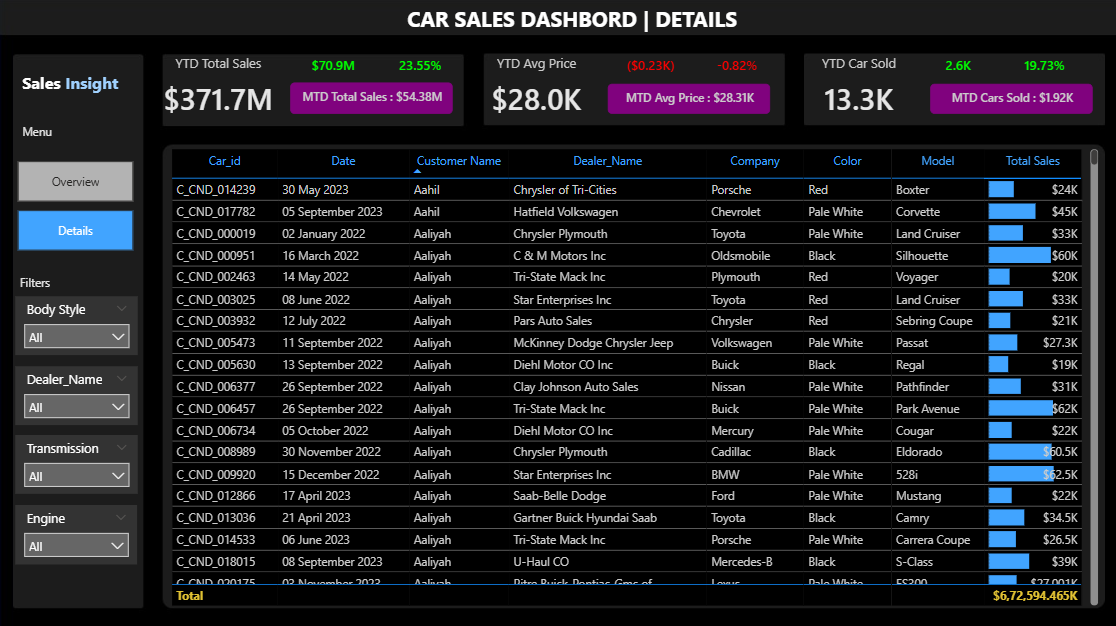

The page's visual inventory and layout, read from the dashboard file:
{"tool":"powerbi","page":{"name":"Details","canvas":[1280,720],"ordinal":1},"visuals":[{"type":"card","title":"YTD Total Sales","fields":{"Values":["car_data.YTD Total Sales"]},"box":[168.6,61.4,164.3,82.9],"z":0},{"type":"card","fields":{"Values":["car_data.Sales Difference"]},"box":[332.9,62.9,98.6,28.6],"z":1000},{"type":"card","fields":{"Values":["car_data.YoY Sales Growth"]},"box":[431.4,62.9,100,28.6],"z":2000},{"type":"card","fields":{"Values":["car_data.MTD KPI"]},"box":[332.9,94.3,185.7,35.7],"z":3000},{"type":"card","title":"YTD Avg Price","fields":{"Values":["car_data.YTD Avg Price"]},"box":[532.9,61.4,162.9,82.9],"z":4000},{"type":"card","fields":{"Values":["car_data.Avg Price Diff"]},"box":[695.7,62.9,98.6,28.6],"z":5000},{"type":"card","fields":{"Values":["car_data.YoY Avg Price Growth"]},"box":[794.3,62.9,98.6,28.6],"z":6000},{"type":"card","fields":{"Values":["car_data.MTD Avg Price KPI"]},"box":[695.7,95.7,185.7,34.3],"z":7000},{"type":"card","title":"YTD Car Sold","fields":{"Values":["car_data.YTD Car Soldo"]},"box":[901.4,61.4,162.9,82.9],"z":8000},{"type":"card","fields":{"Values":["car_data.Cars Sold Diff"]},"box":[1047.1,62.9,98.6,28.6],"z":9000},{"type":"card","fields":{"Values":["car_data.YoY Car Sold Growth"]},"box":[1145.7,62.9,98.6,28.6],"z":10000},{"type":"card","fields":{"Values":["car_data.MTD Cars Sold KPI"]},"box":[1064.3,95.7,185.7,34.3],"z":11000},{"type":"textbox","box":[461.4,0,420,42.9],"z":12000},{"type":"slicer","fields":{"Values":["car_data.Body Style"]},"box":[18.8,338.8,140,67.5],"z":13000},{"type":"slicer","fields":{"Values":["car_data.Dealer_Name"]},"box":[18.7,418.7,140,67.3],"z":14000},{"type":"slicer","fields":{"Values":["car_data.Transmission"]},"box":[18.7,497.3,140,67.3],"z":15000},{"type":"slicer","fields":{"Values":["car_data.Engine"]},"box":[19.2,577.7,139.2,67.7],"z":16000},{"type":"textbox","box":[18.6,308.6,70,30],"z":17000},{"type":"tableEx","fields":{"Values":["car_data.Car_id","car_data.Date","car_data.Customer Name","car_data.Dealer_Name","car_data.Company","car_data.Color","car_data.Model","Sum(car_data.Price ($))"]},"box":[191.4,165.7,1070,531.7],"z":18000},{"type":"textbox","box":[21.4,77.1,132.9,40],"z":19000},{"type":"textbox","box":[21.4,135.7,67.1,30],"z":20000},{"type":"pageNavigator","box":[21.4,184.3,132.9,102.9],"z":21000}]}

Visuals, with their boxes in screenshot pixels (x1, y1, x2, y2), scaled from the page's 1280x720 canvas onto the 1116x626 screenshot:
"YTD Total Sales" card: <region>147, 53, 290, 125</region>
card - car_data.Sales Difference: <region>290, 55, 376, 80</region>
card - car_data.YoY Sales Growth: <region>376, 55, 463, 80</region>
card - car_data.MTD KPI: <region>290, 82, 452, 113</region>
"YTD Avg Price" card: <region>465, 53, 607, 125</region>
card - car_data.Avg Price Diff: <region>607, 55, 693, 80</region>
card - car_data.YoY Avg Price Growth: <region>693, 55, 778, 80</region>
card - car_data.MTD Avg Price KPI: <region>607, 83, 768, 113</region>
"YTD Car Sold" card: <region>786, 53, 928, 125</region>
card - car_data.Cars Sold Diff: <region>913, 55, 999, 80</region>
card - car_data.YoY Car Sold Growth: <region>999, 55, 1085, 80</region>
card - car_data.MTD Cars Sold KPI: <region>928, 83, 1090, 113</region>
textbox: <region>402, 0, 768, 37</region>
slicer - car_data.Body Style: <region>16, 295, 138, 353</region>
slicer - car_data.Dealer_Name: <region>16, 364, 138, 423</region>
slicer - car_data.Transmission: <region>16, 432, 138, 491</region>
slicer - car_data.Engine: <region>17, 502, 138, 561</region>
textbox: <region>16, 268, 77, 294</region>
tableEx - car_data.Car_id x car_data.Date: <region>167, 144, 1100, 606</region>
textbox: <region>19, 67, 135, 102</region>
textbox: <region>19, 118, 77, 144</region>
pageNavigator: <region>19, 160, 135, 250</region>
